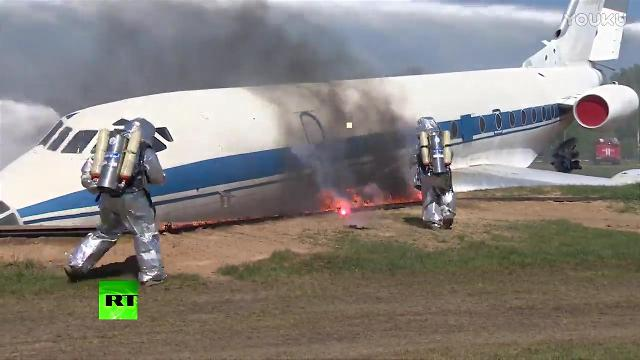smoke: (0, 0, 339, 83), (285, 88, 401, 176)
